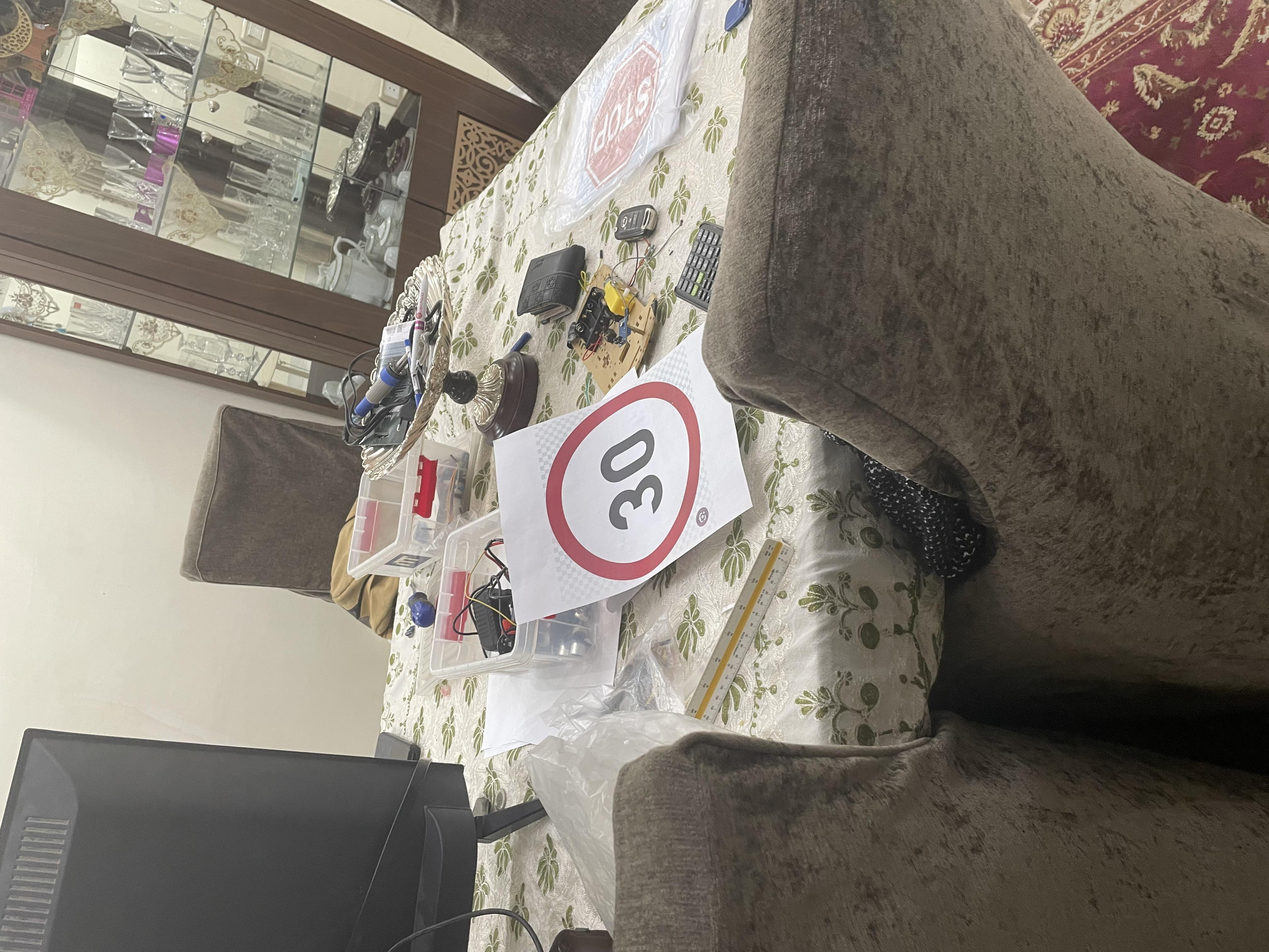30-speed: (496, 407, 769, 524)
